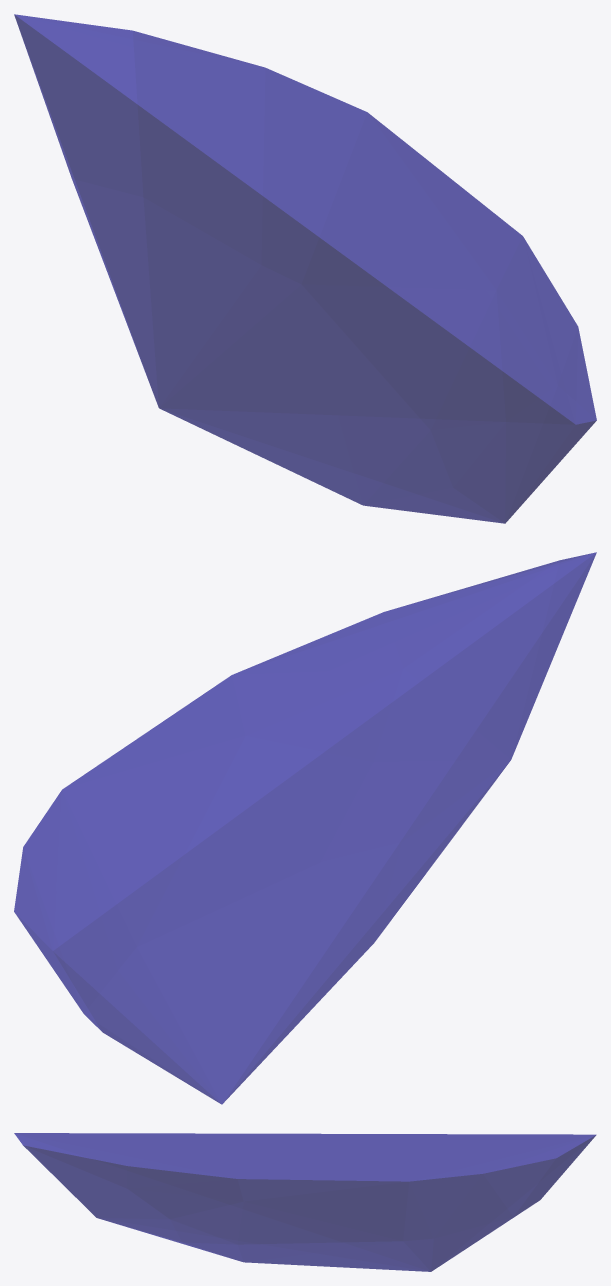
3 renders of one model, top to bottom at view 1: azimuth 30°, elevation 25°; view 2: azimuth 150°, elevation 25°; view 3: azimuth 270°, elevation 25°, orthographic. The views are drawn at different scales.
Visible parts, largest first — view 1: Shape_IndexedFaceSet.013_Shape_IndexedFaceSet.054; view 2: Shape_IndexedFaceSet.013_Shape_IndexedFaceSet.054; view 3: Shape_IndexedFaceSet.013_Shape_IndexedFaceSet.054.
Part boxes in pixels (bbox=[...]): Shape_IndexedFaceSet.013_Shape_IndexedFaceSet.054: bbox=[14, 14, 596, 523]; Shape_IndexedFaceSet.013_Shape_IndexedFaceSet.054: bbox=[14, 552, 596, 1104]; Shape_IndexedFaceSet.013_Shape_IndexedFaceSet.054: bbox=[14, 1133, 596, 1271].
Size of the model in its own units: 0.1398 by 0.1964 by 0.7287.
